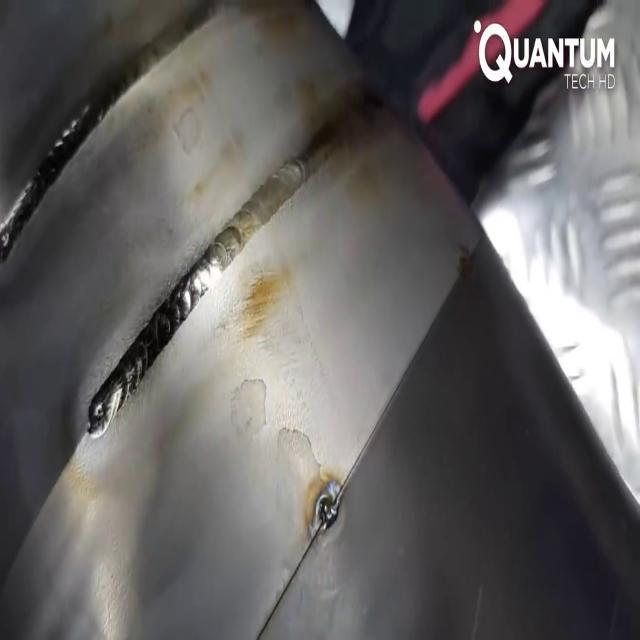Good Welding: (239, 136, 345, 284), (114, 263, 232, 394)
